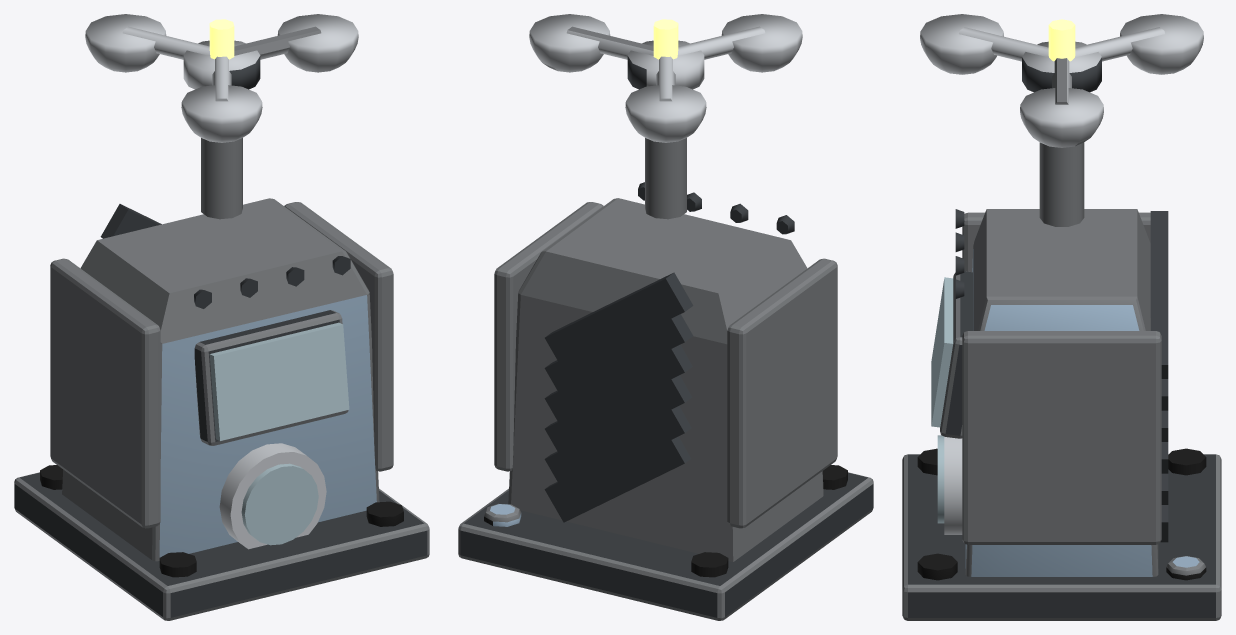
The model's file is weather_station.fbx.
3 views of the same model, side by side, from view 1: azimuth 30°, elevation 25°; view 2: azimuth 150°, elevation 25°; view 3: azimuth 270°, elevation 25° (orthographic). The views are drawn at different scales.
Visible parts, largest first — view 1: Mesh_WeatherStation_Field; view 2: Mesh_WeatherStation_Field; view 3: Mesh_WeatherStation_Field.
Boxes of the visible parts, x1,y1,x2,y2 form: Mesh_WeatherStation_Field: (14, 14, 429, 620); Mesh_WeatherStation_Field: (458, 14, 873, 620); Mesh_WeatherStation_Field: (902, 14, 1221, 620).
Size of the model in its own units: 14.4 by 26.4 by 14.4.
